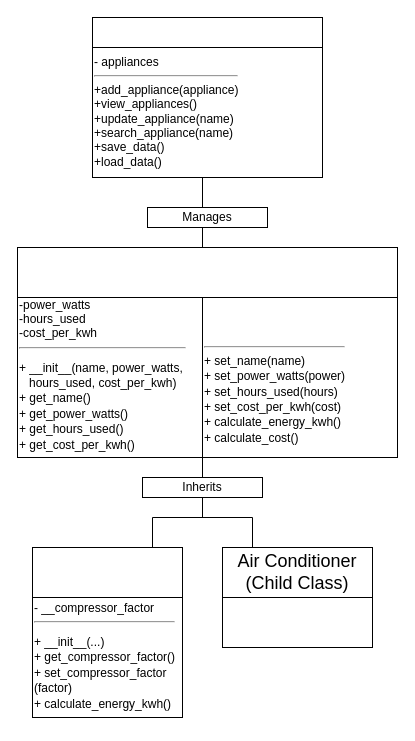
This 415x741 diagram has some shape labels left out. The box of each missing label's shape, as (x1, y1, x2, y2) in pixels:
+ __init__(...) + calculate_energy_kwh(): (222, 546, 372, 648)
Appliance (Parent Class): (16, 246, 398, 298)
Energy Monitor: (92, 16, 322, 48)
Fridge (Child Class): (32, 546, 182, 598)
